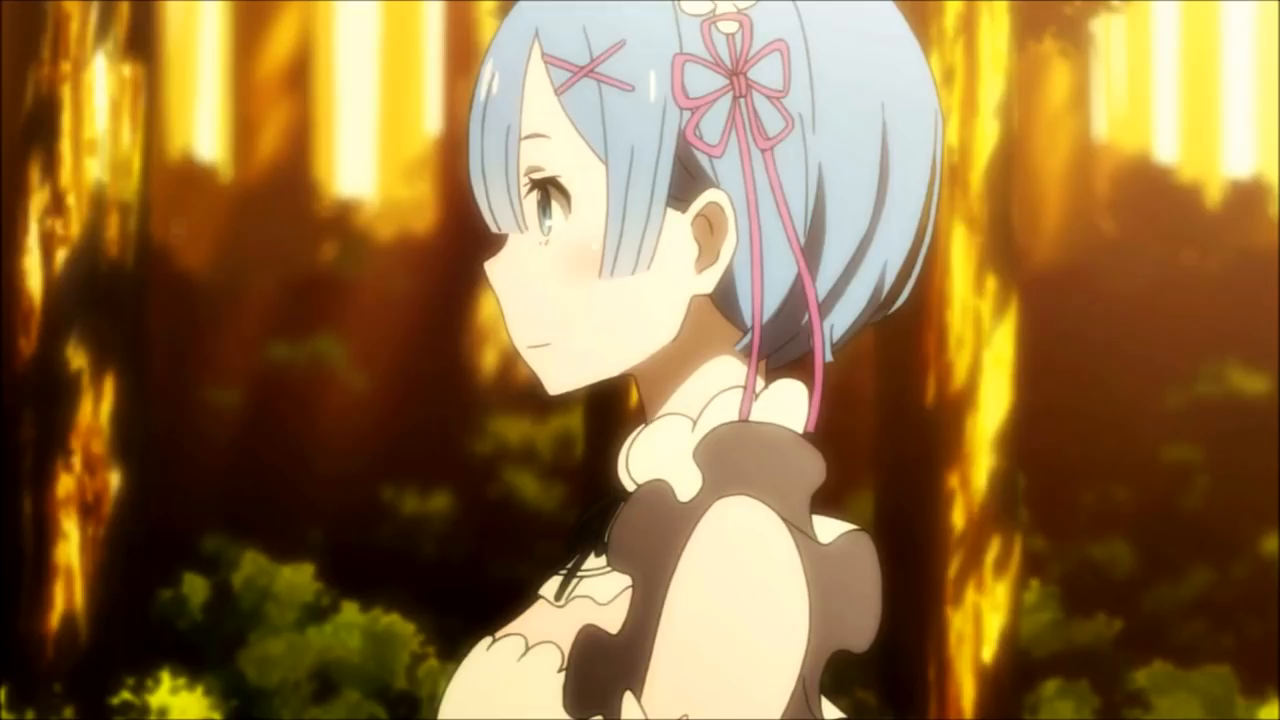REM: (428, 1, 957, 418)
